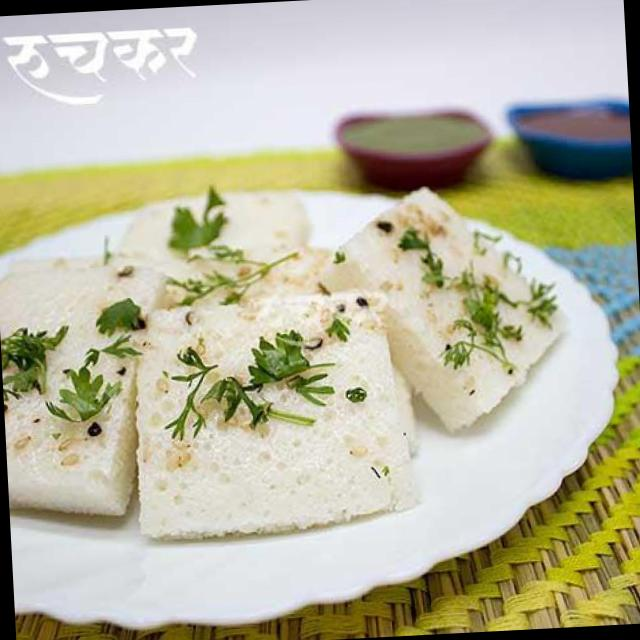dhokla: (0, 183, 595, 526)
